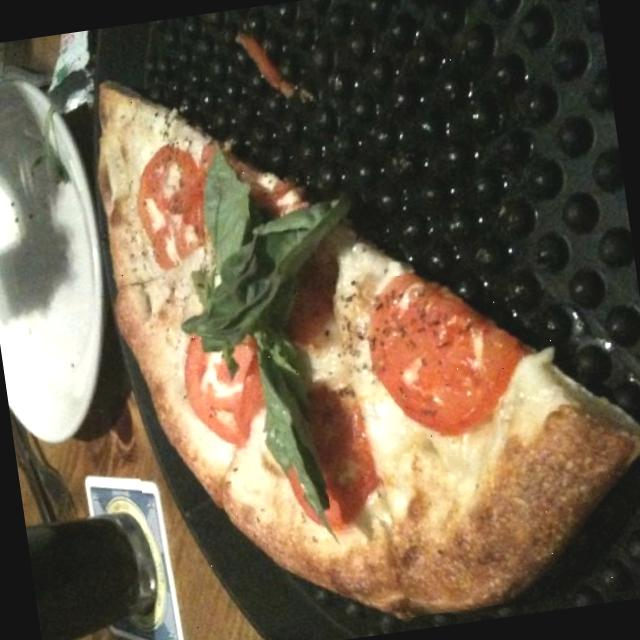basil: (190, 150, 362, 353), (251, 318, 330, 516)
pizza: (98, 85, 640, 612)
tomato: (366, 258, 533, 440), (301, 374, 388, 534), (175, 326, 274, 452), (126, 138, 213, 266)
